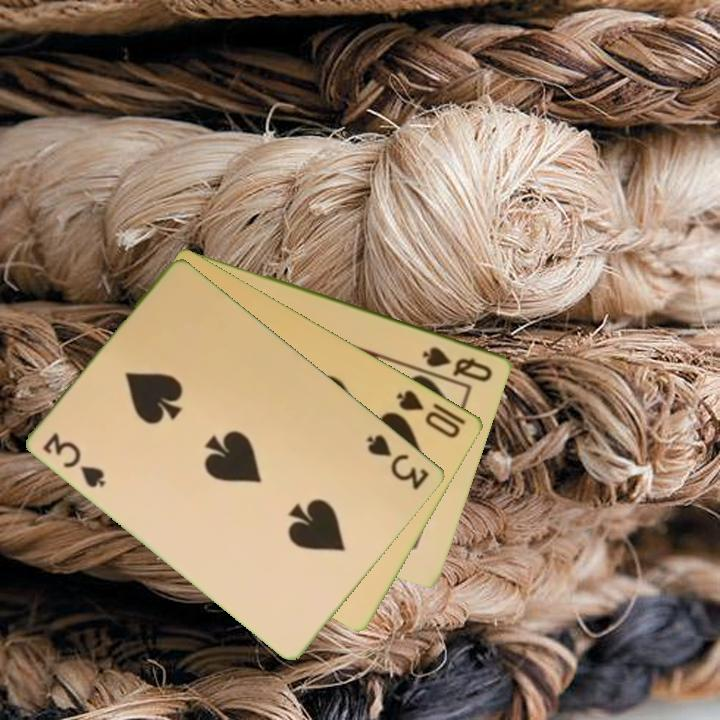10s: (393, 386, 470, 441)
3s: (363, 430, 433, 493), (39, 428, 109, 491)
Qs: (419, 343, 496, 385)
